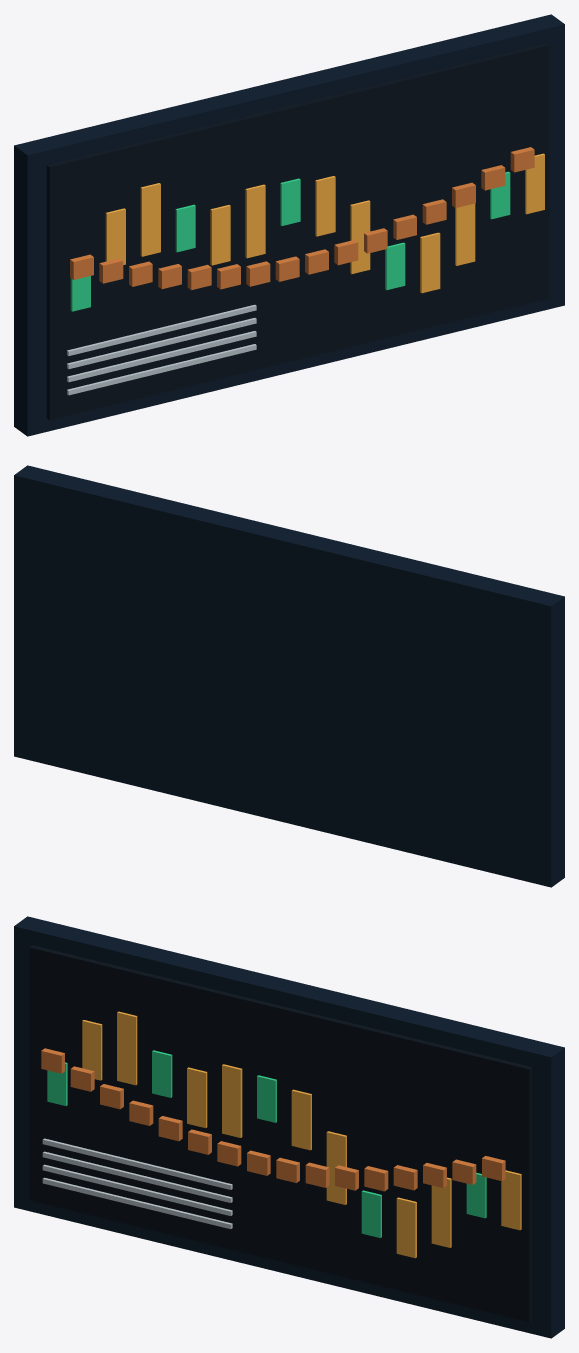
The model's file is 07_L77_HolographicCopperOverburdenMap.fbx.
3 views of the same model, one above another, from view 1: azimuth 30°, elevation 25°; view 2: azimuth 150°, elevation 25°; view 3: azimuth 330°, elevation 25° (orthographic).
Parts seen in each view (by area): view 1: HolographicCopperOverburdenMap; view 2: HolographicCopperOverburdenMap; view 3: HolographicCopperOverburdenMap.
Boxes of the visible parts, x1,y1,x2,y2 form: HolographicCopperOverburdenMap: (14,14,564,436); HolographicCopperOverburdenMap: (14,465,564,887); HolographicCopperOverburdenMap: (14,916,564,1338).
Bounding box in the file's own units: 172 × 86 × 12.75.
